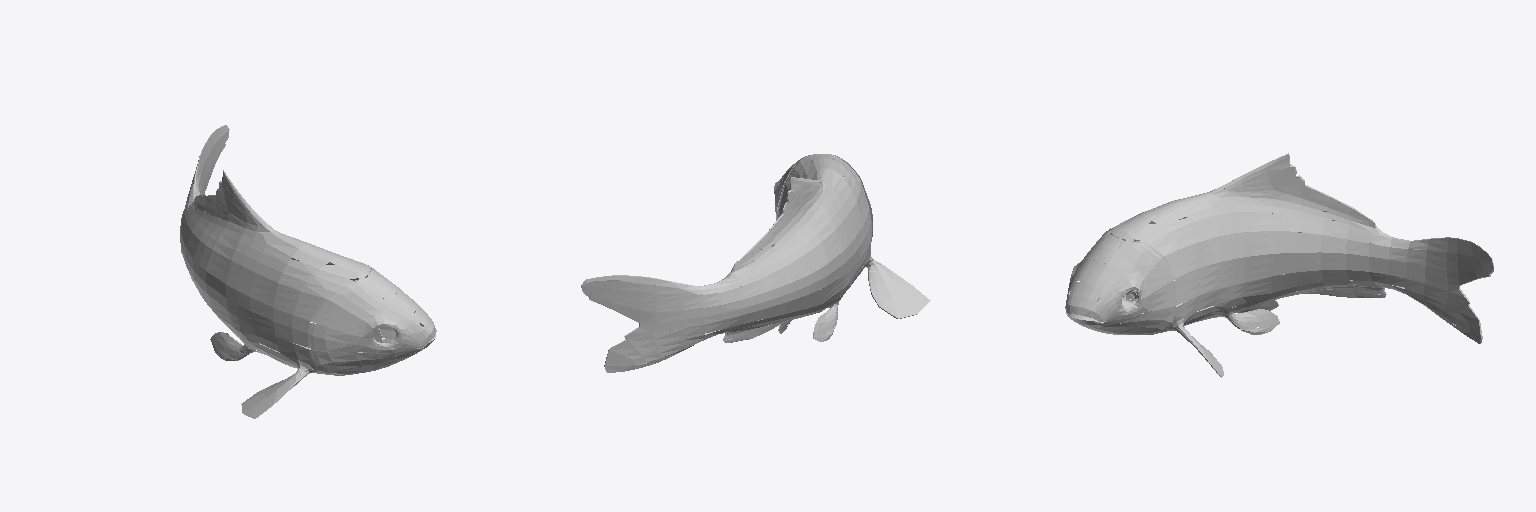
File: TB1ckgvRVXXXXaNXFXXXXXXXXXX.obj
3 renders of one model, left to right at view 1: azimuth 30°, elevation 25°; view 2: azimuth 150°, elevation 25°; view 3: azimuth 270°, elevation 25°, orthographic.
Parts seen in each view (by area): view 1: carp Carp_body_1 locator30 group19, Carp_body_0 locator1 group5 carp; view 2: carp Carp_body_1 locator30 group19, Carp_body_0 locator1 group5 carp; view 3: carp Carp_body_1 locator30 group19, Carp_body_0 locator1 group5 carp.
Part boxes in pixels (bbox=[...]): carp Carp_body_1 locator30 group19: bbox=[180, 125, 435, 418]; Carp_body_0 locator1 group5 carp: bbox=[180, 126, 436, 416]; carp Carp_body_1 locator30 group19: bbox=[582, 154, 930, 372]; Carp_body_0 locator1 group5 carp: bbox=[581, 155, 927, 365]; carp Carp_body_1 locator30 group19: bbox=[1065, 153, 1493, 377]; Carp_body_0 locator1 group5 carp: bbox=[1066, 162, 1493, 373].
Size of the model in its own units: 4414 by 4576 by 9975.